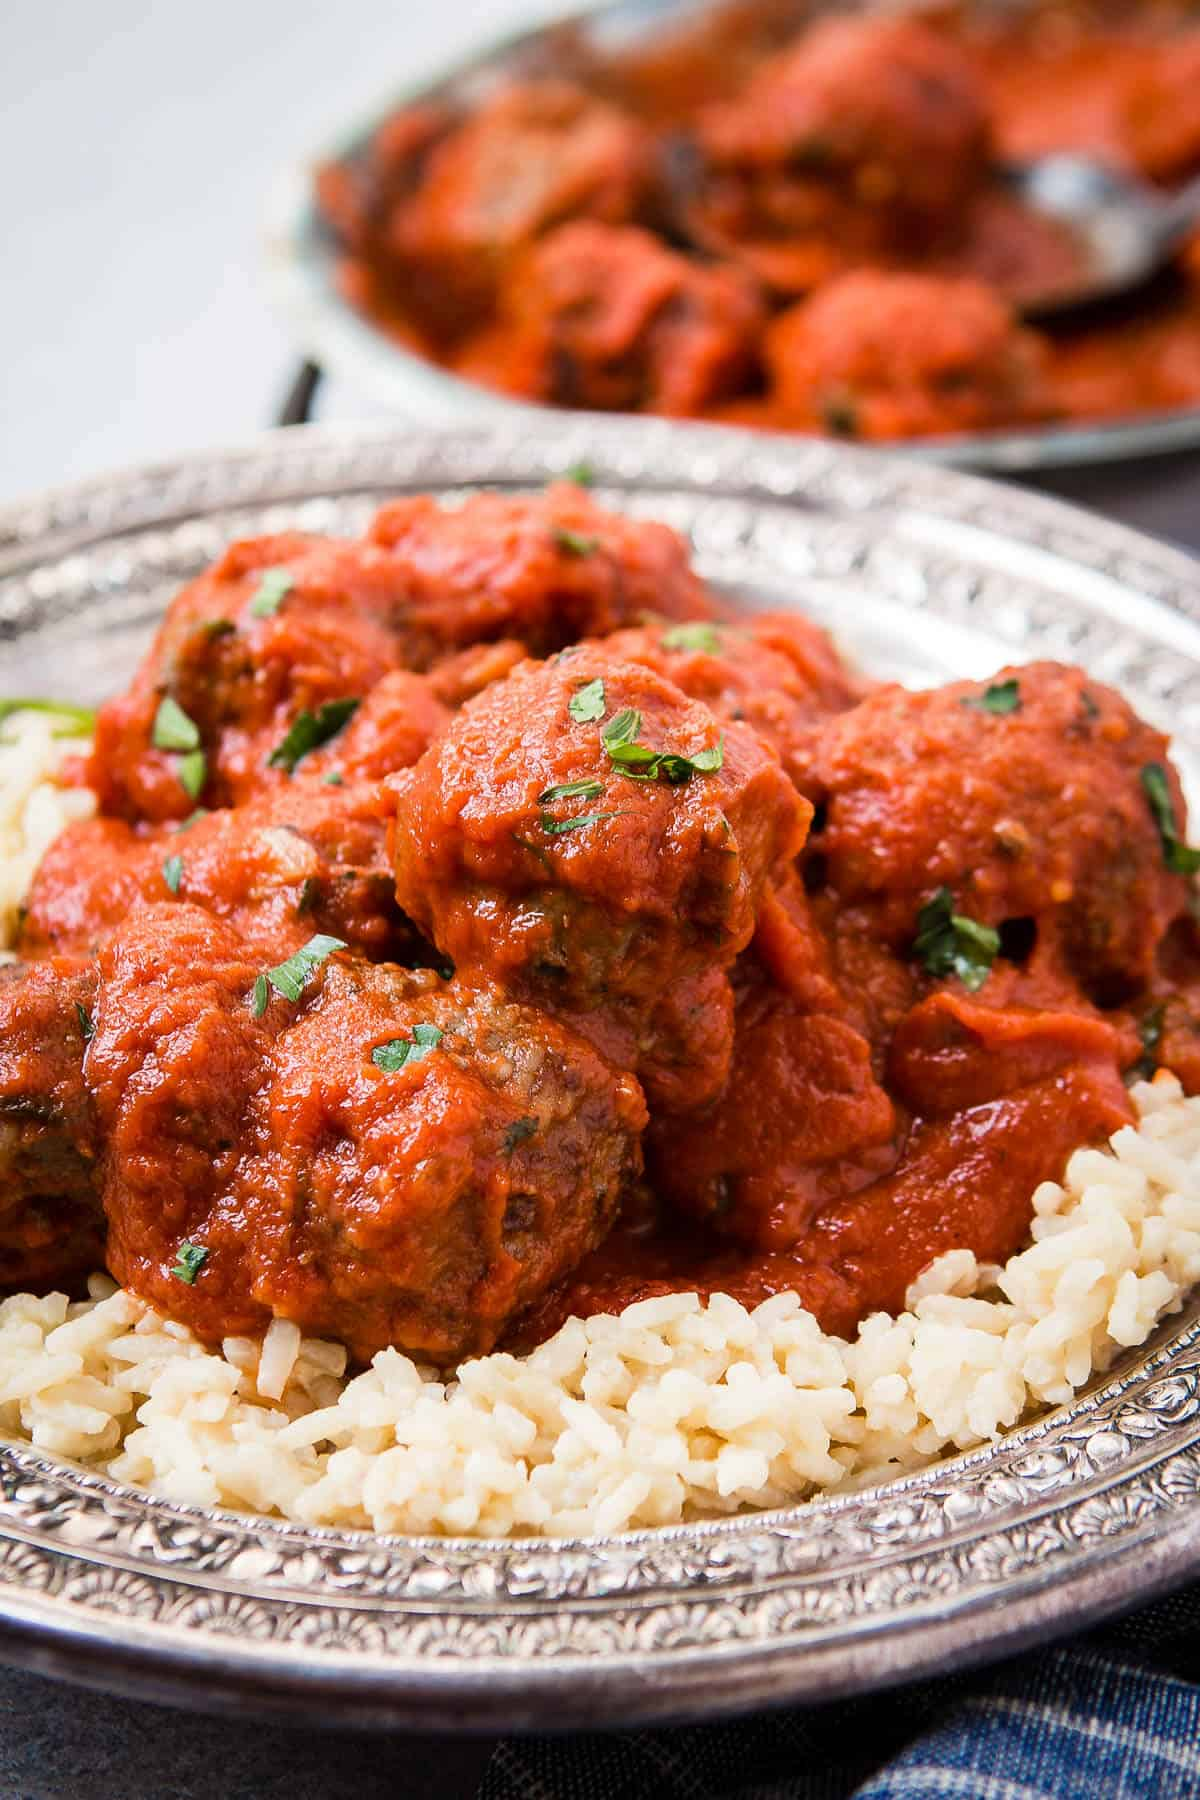meatballs: (187, 584, 990, 1209)
plain rice: (208, 1357, 960, 1472)
